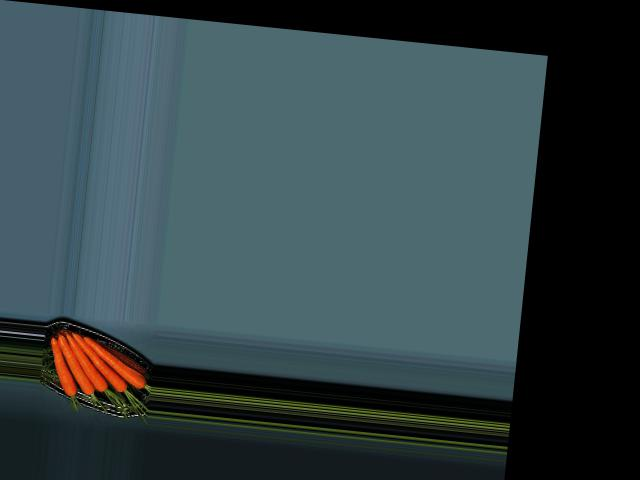carrot: (44, 336, 77, 395)
